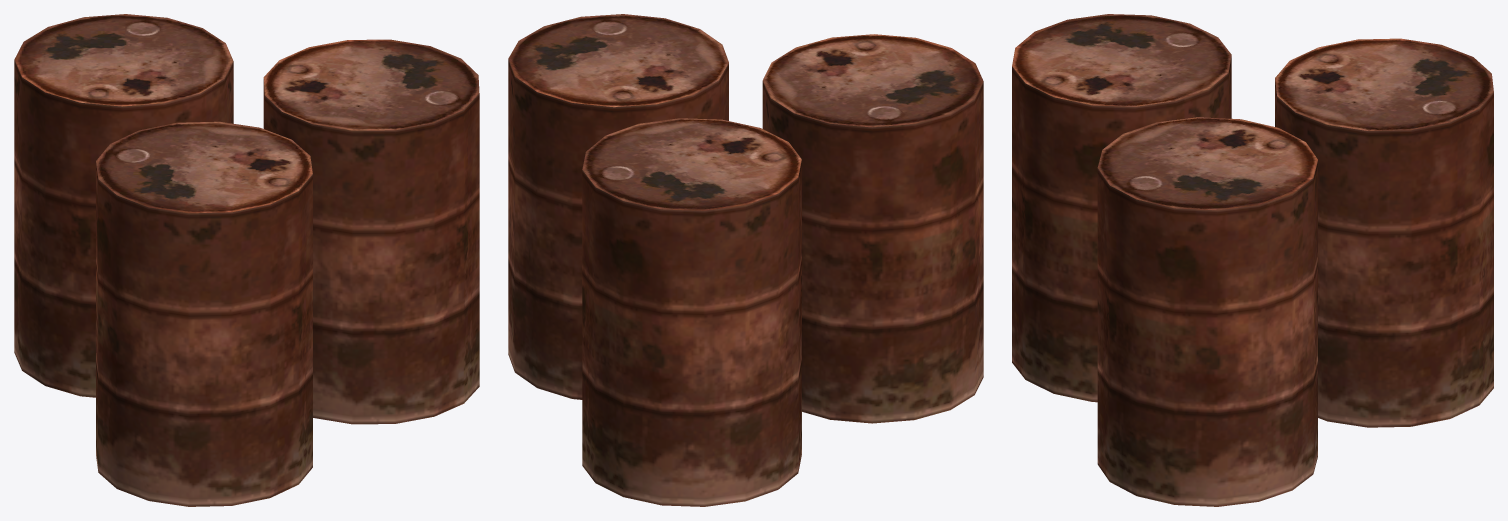
The model's file is od_group_of_three_upright_4.fbx.
The picture shows the model from 3 angles, left to right: view 1: azimuth 30°, elevation 25°; view 2: azimuth 150°, elevation 25°; view 3: azimuth 270°, elevation 25°; orthographic projection.
Parts seen in each view (by area): view 1: mesh_0; view 2: mesh_0; view 3: mesh_0.
Boxes of the visible parts, left/top/right/bottom form: mesh_0: left=14, top=14, right=479, bottom=506; mesh_0: left=508, top=14, right=983, bottom=506; mesh_0: left=1012, top=14, right=1493, bottom=506.
Size of the model in its own units: 125 by 88.26 by 130.
1 material, 1 textured.
